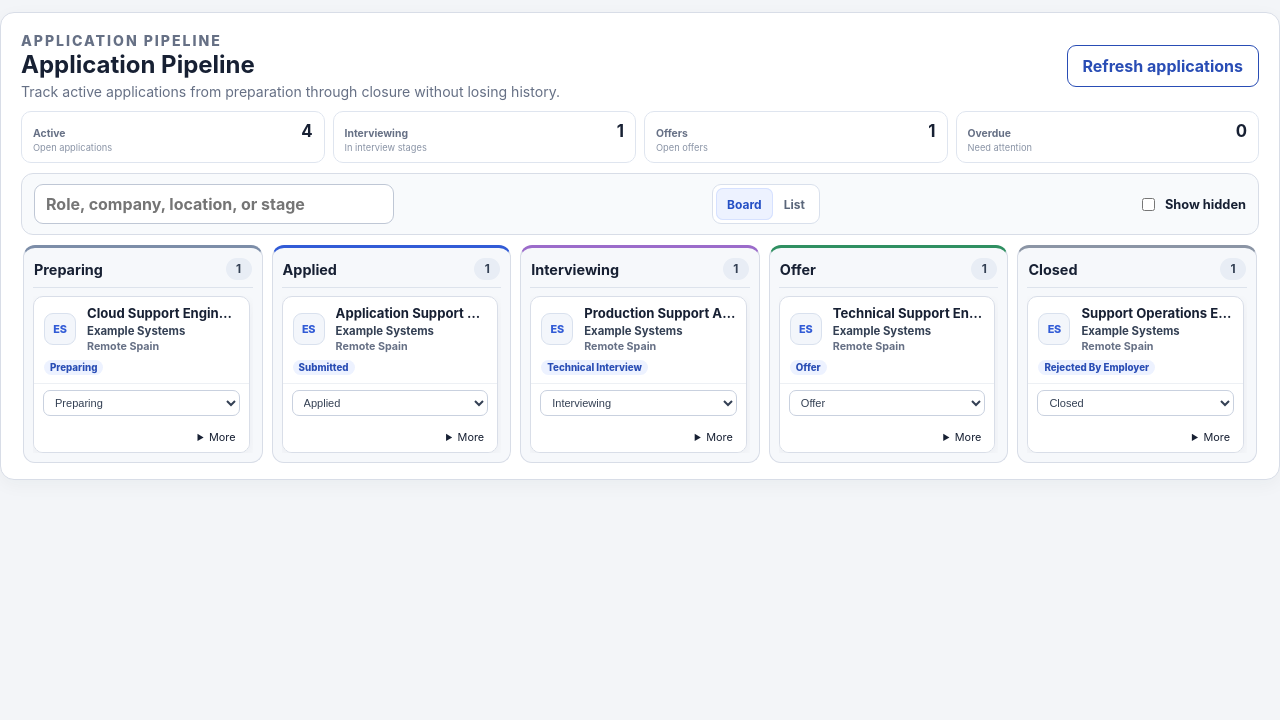
Test case: ApplicationDashboard › surfaces workflow mutation errors inside the open application workspace
Click the button with aria-label "Open Application Support Engineer": (390,340) [283,297,497,383]
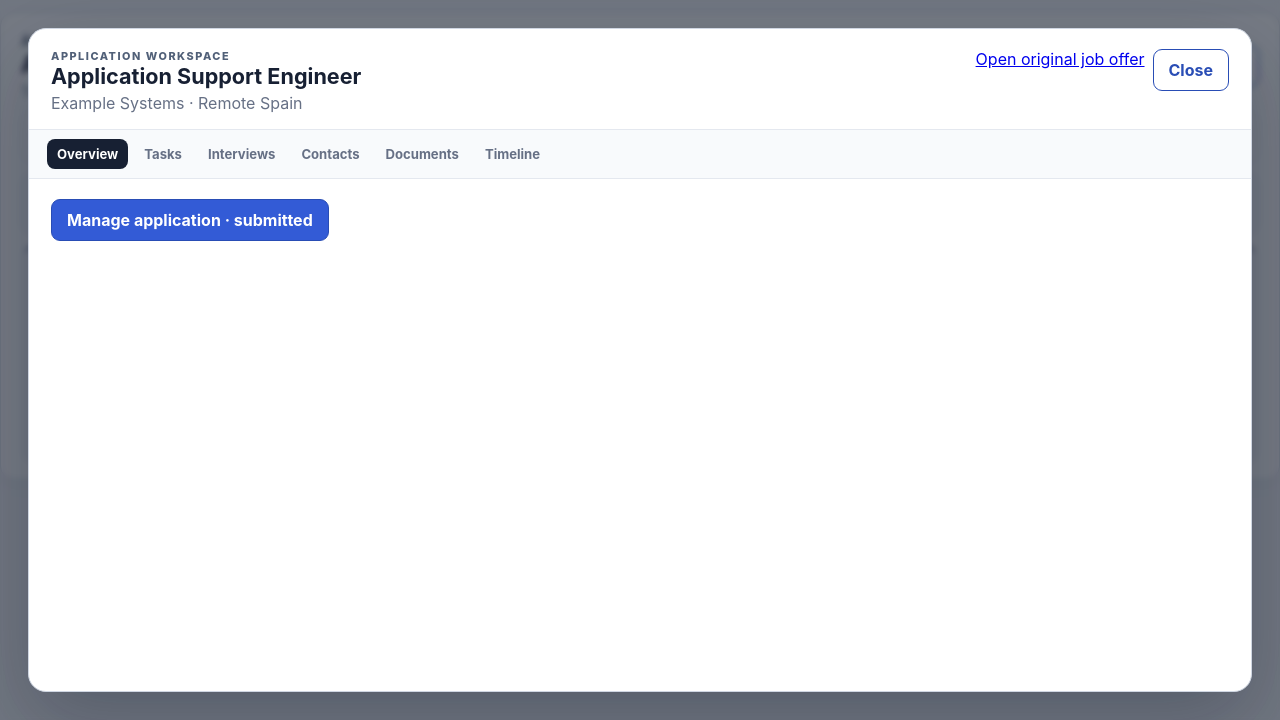
Click the button "Manage application · submitted": (190,220) [51,199,329,241]
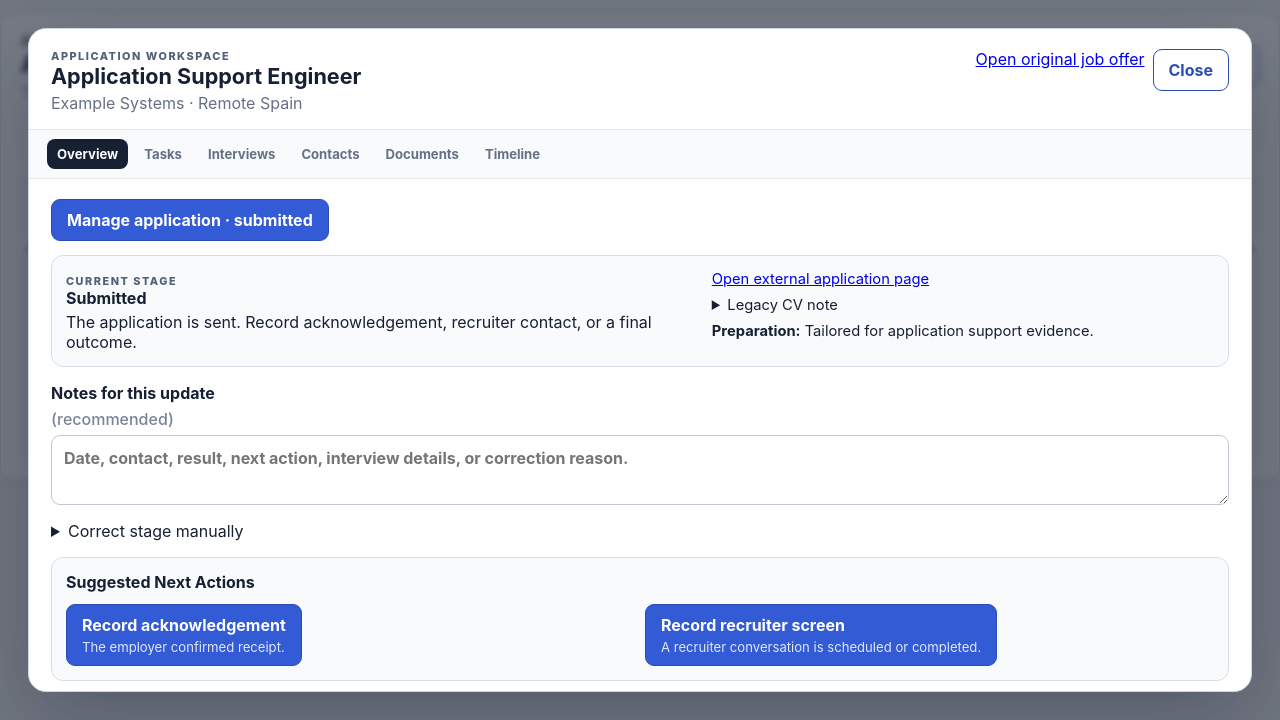
Click the heading "Correct stage manually": (156,531) [68,521,244,541]
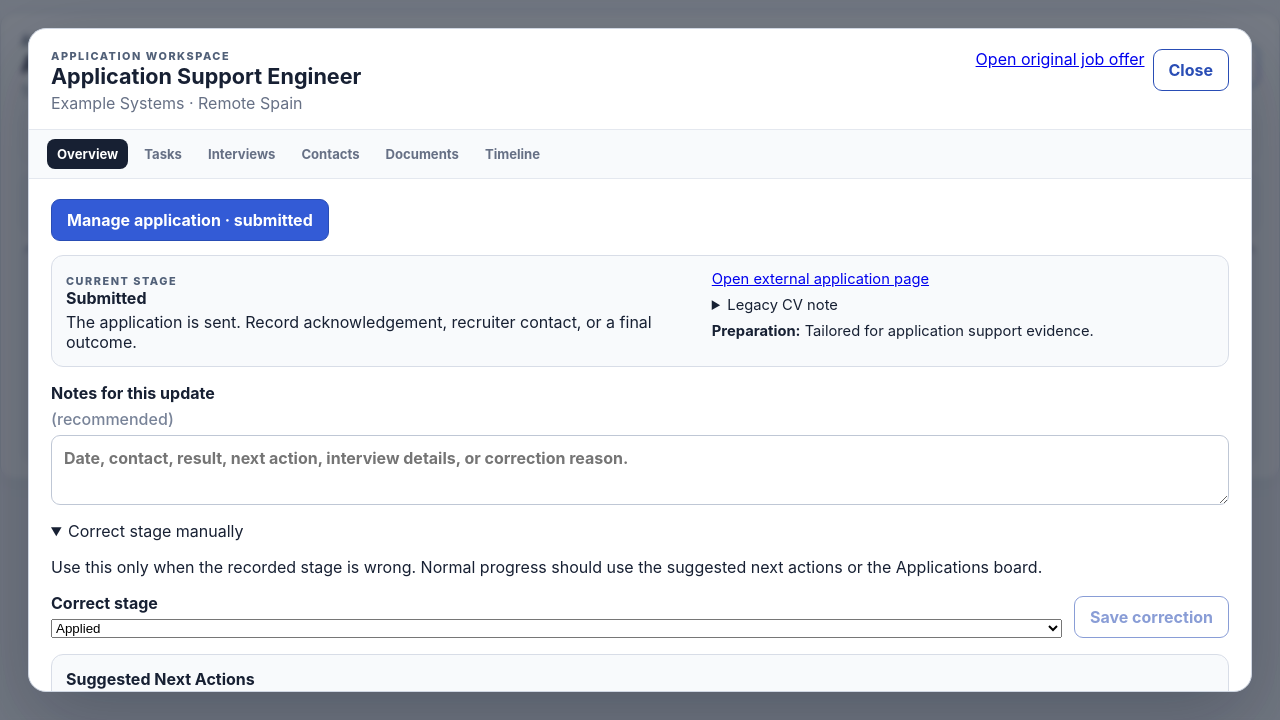
Select "Technical interview" in the dropdown labelled "Correct stage": (556,629) [51,619,1062,638]
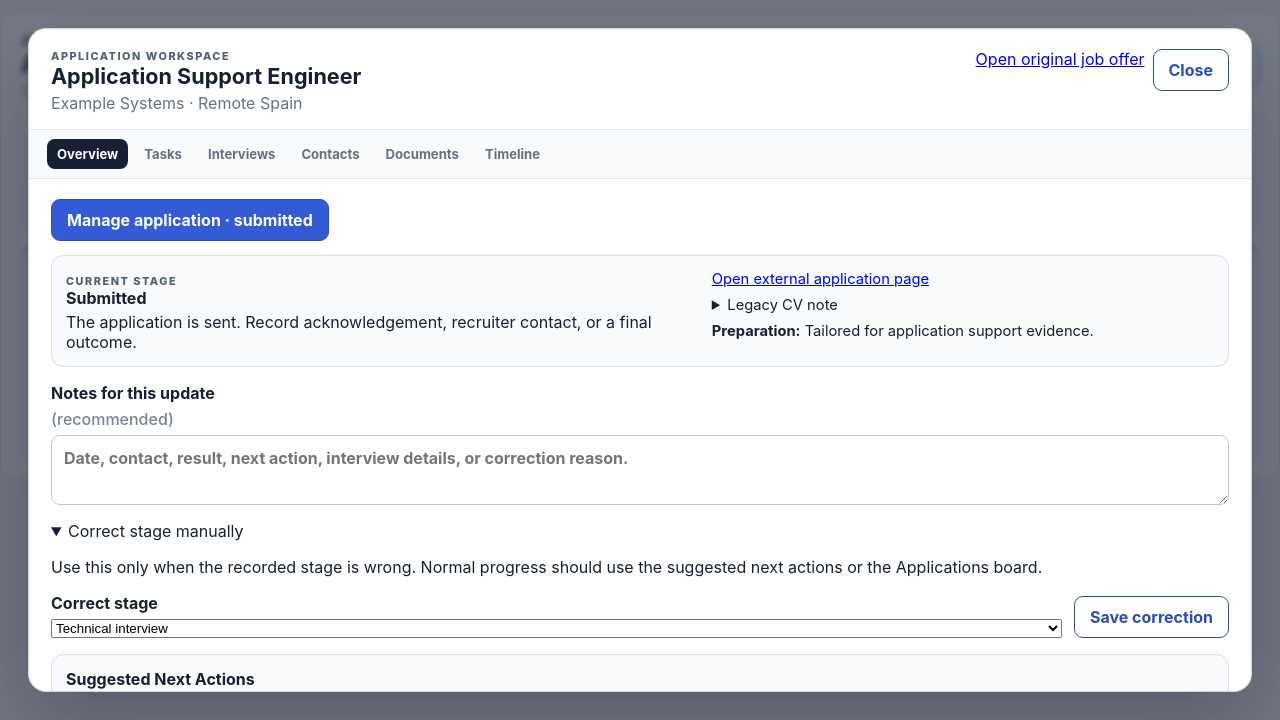
Click the button "Save correction": (1152,617) [1074,596,1229,638]
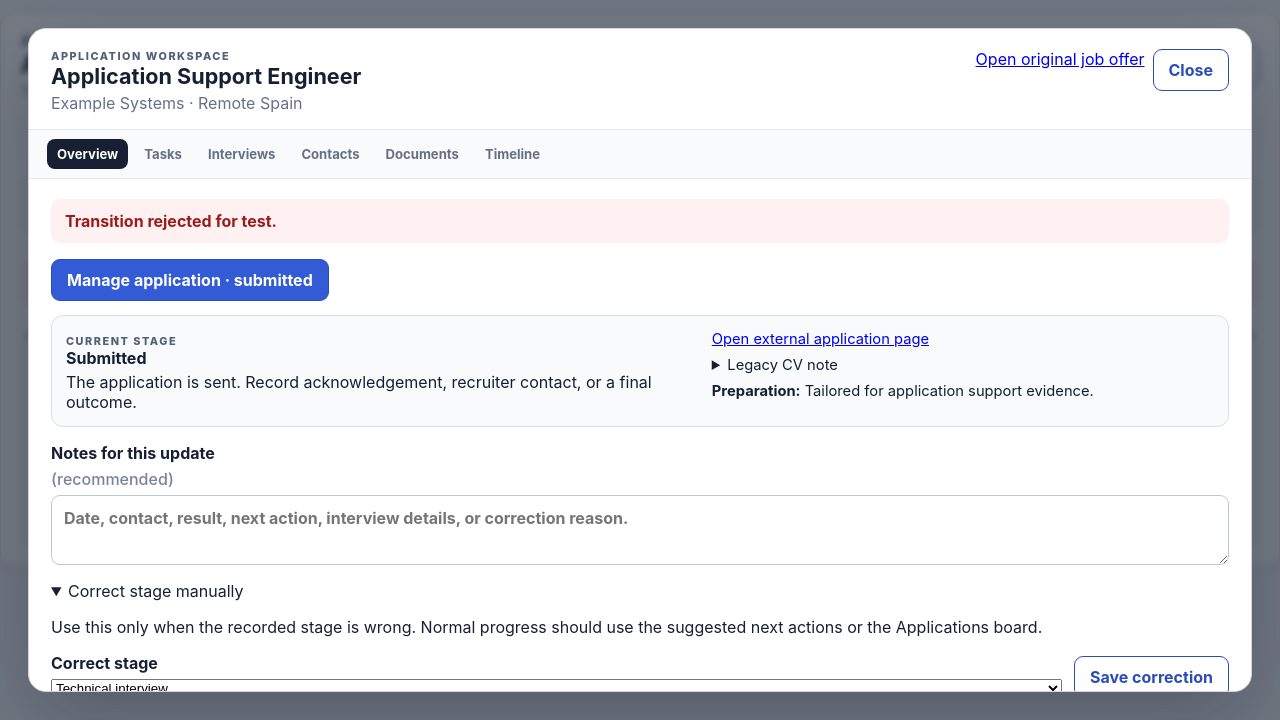
Now the message "Transition rejected for test." below "Example Systems · Remote Spain" is shown, box [65,211,277,231]
